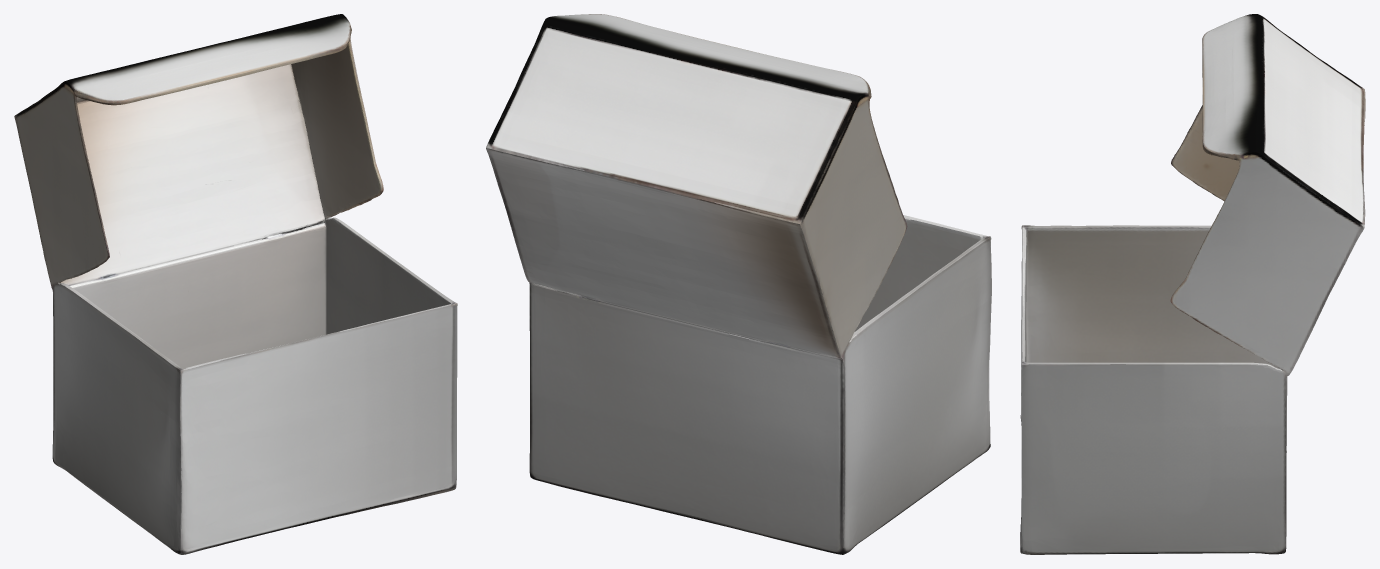
3 views of the same model, side by side, from view 1: azimuth 30°, elevation 25°; view 2: azimuth 150°, elevation 25°; view 3: azimuth 270°, elevation 25° (orthographic). The views are drawn at different scales.
Size of the model in its own units: 73.14 by 98.35 by 76.35.
Materials: 1 (1 with a texture image).
